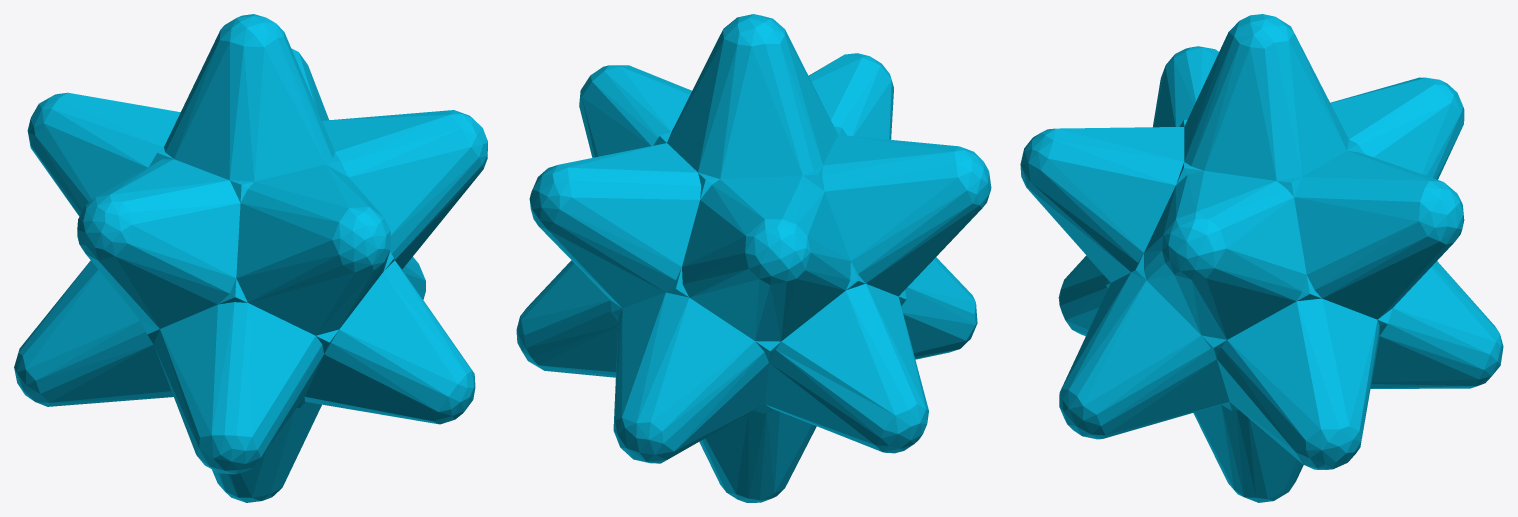
Rendered from star2.glb.
3 renders of one model, left to right at view 1: azimuth 30°, elevation 25°; view 2: azimuth 150°, elevation 25°; view 3: azimuth 270°, elevation 25°, orthographic.
Visible parts, largest first — view 1: Dodecahedron - Star Fragment_2; view 2: Dodecahedron - Star Fragment_2; view 3: Dodecahedron - Star Fragment_2.
Part boxes in pixels (x1=…): Dodecahedron - Star Fragment_2: x1=14, y1=14, x2=487, y2=502; Dodecahedron - Star Fragment_2: x1=516, y1=14, x2=991, y2=502; Dodecahedron - Star Fragment_2: x1=1020, y1=14, x2=1503, y2=502.
Size of the model in its own units: 59.52 by 68.16 by 61.98.
